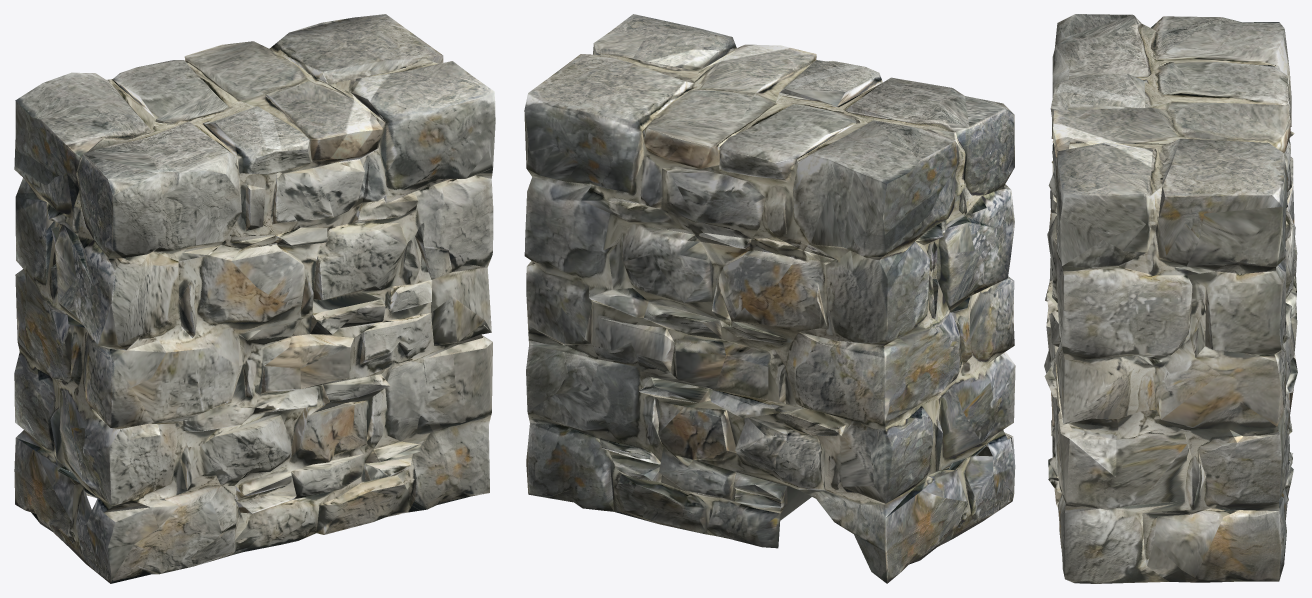
File: StoneWall.glb
3 renders of one model, left to right at view 1: azimuth 30°, elevation 25°; view 2: azimuth 150°, elevation 25°; view 3: azimuth 270°, elevation 25°, orthographic. The views are drawn at different scales.
Parts seen in each view (by area): view 1: StoneWall; view 2: StoneWall; view 3: StoneWall.
Part boxes in pixels (left/top/right/bottom): StoneWall: left=14, top=14, right=495, bottom=583; StoneWall: left=524, top=14, right=1015, bottom=583; StoneWall: left=1044, top=14, right=1297, bottom=583.
Size of the model in its own units: 0.992 by 1 by 0.5724.
1 material, 1 textured.
